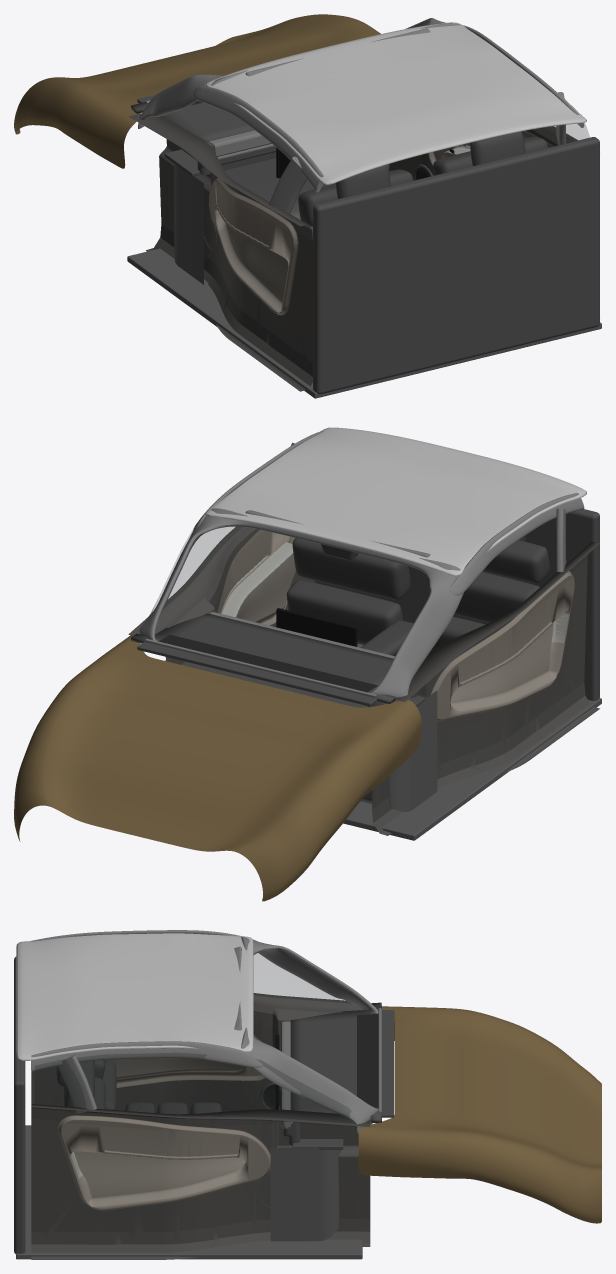
Rendered from cabin.4fff1ff5.glb.
3 views of the same model, one above another, from view 1: azimuth 30°, elevation 25°; view 2: azimuth 150°, elevation 25°; view 3: azimuth 270°, elevation 25° (orthographic). The views are drawn at different scales.
Visible parts, largest first — view 1: Cabin, SeatBackLeft, SeatBackRight; view 2: Cabin, SeatBackRight, SeatBackLeft, Glass; view 3: Cabin, Glass, SeatBackRight, SeatBackLeft.
Part boxes in pixels (x1,y1,x2,y2): Cabin: [14, 14, 601, 398]; SeatBackLeft: [298, 165, 413, 239]; SeatBackRight: [433, 131, 548, 175]; Cabin: [14, 427, 601, 901]; SeatBackRight: [286, 538, 410, 644]; SeatBackLeft: [427, 536, 549, 651]; Glass: [148, 524, 242, 617]; Cabin: [14, 930, 601, 1259]; Glass: [35, 953, 355, 1126]; SeatBackRight: [56, 1060, 105, 1109]; SeatBackLeft: [95, 1059, 116, 1109].
Size of the model in its own units: 1.75 by 1.2 by 3.07.
